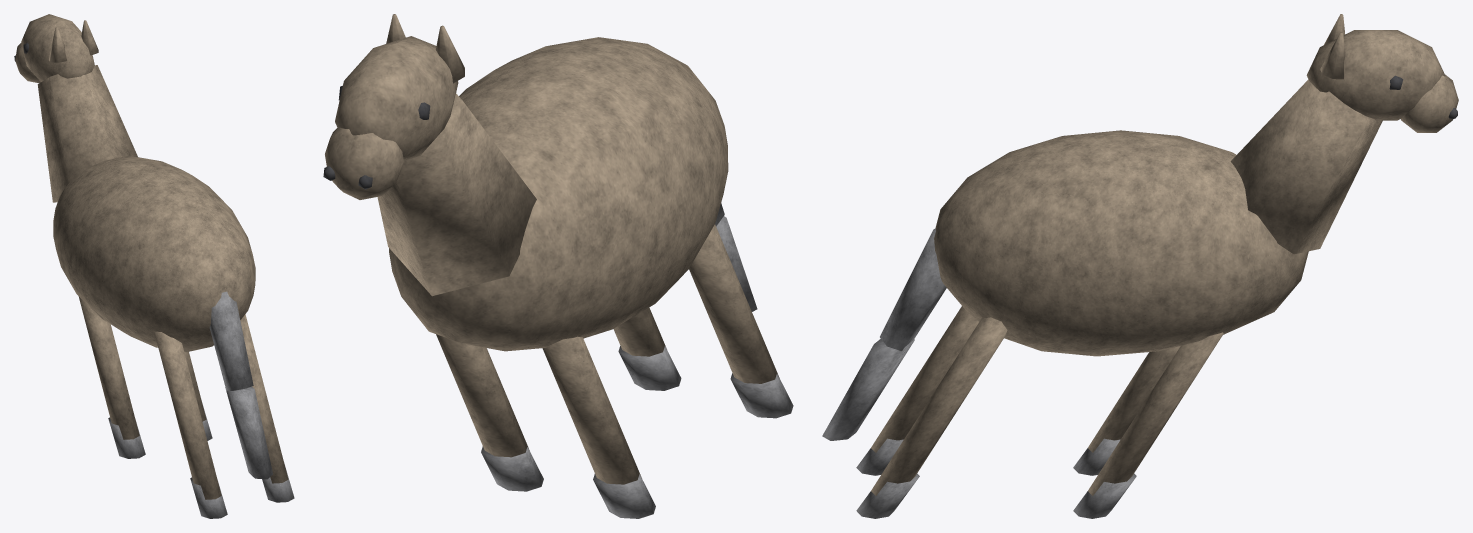
Rendered from mob_kuda_walk2.obj.
3 renders of one model, left to right at view 1: azimuth 30°, elevation 25°; view 2: azimuth 150°, elevation 25°; view 3: azimuth 270°, elevation 25°, orthographic. The views are drawn at different scales.
Parts seen in each view (by area): view 1: mob_kuda_walk2; view 2: mob_kuda_walk2; view 3: mob_kuda_walk2.
Boxes of the visible parts, bbox=[...] form: mob_kuda_walk2: bbox=[14, 14, 294, 518]; mob_kuda_walk2: bbox=[323, 14, 793, 518]; mob_kuda_walk2: bbox=[822, 14, 1458, 518].
Size of the model in its own units: 0.8439 by 1.94 by 2.41.
Materials: 1 (1 with a texture image).
